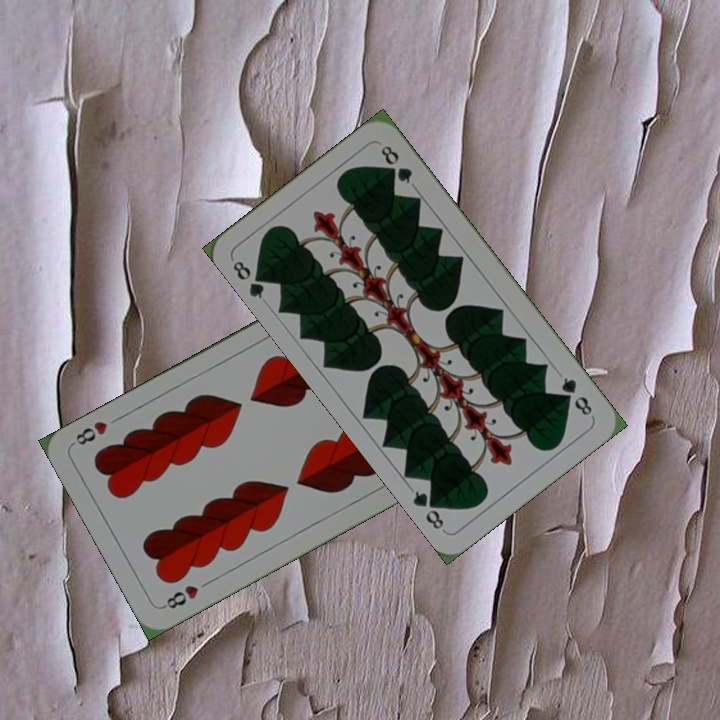G8: (228, 256, 271, 302), (557, 372, 595, 419)
H8: (159, 581, 202, 612)
